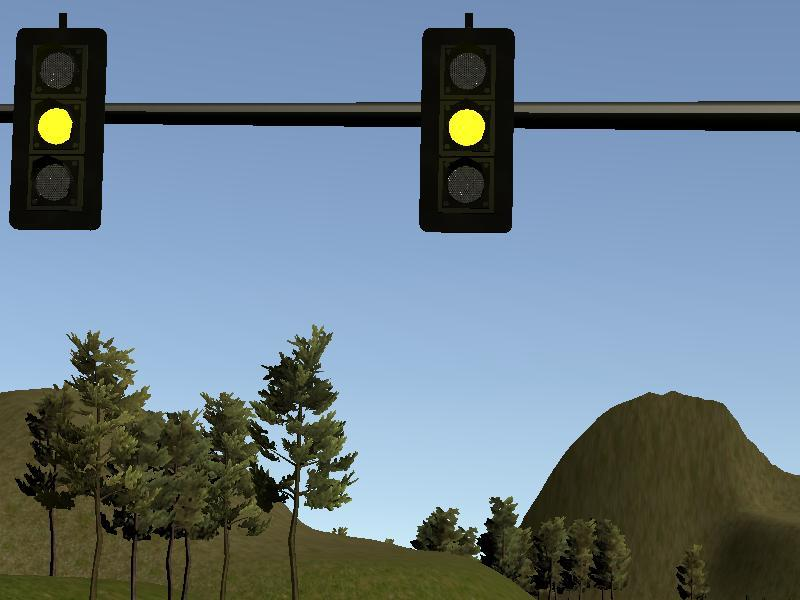Yellow: (9, 26, 108, 231), (419, 27, 515, 234)
